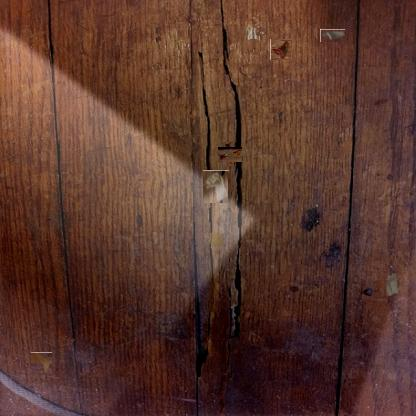dirty: (204, 170, 230, 203), (270, 39, 292, 60), (384, 272, 400, 298), (220, 144, 240, 164), (320, 29, 345, 42)
liquid: (202, 227, 226, 251), (31, 352, 52, 374)
